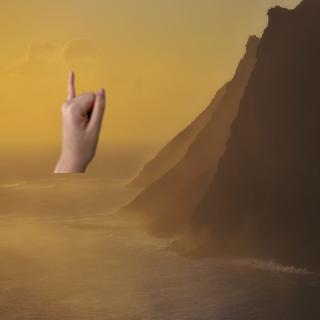Fine: (50, 69, 114, 171)
